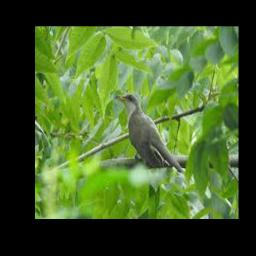Cuckoo: (114, 93, 183, 172)
